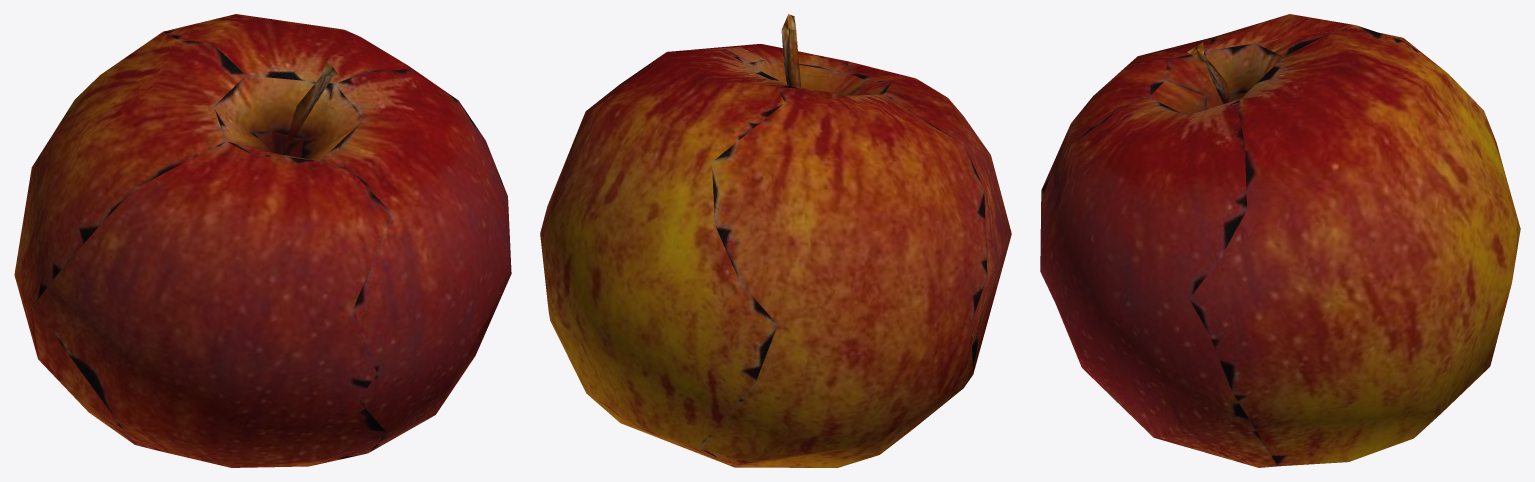
Rendered from apfel.glb.
3 renders of one model, left to right at view 1: azimuth 30°, elevation 25°; view 2: azimuth 150°, elevation 25°; view 3: azimuth 270°, elevation 25°, orthographic. The views are drawn at different scales.
Parts seen in each view (by area): view 1: food_apple_01; view 2: food_apple_01; view 3: food_apple_01.
Boxes of the visible parts, bbox=[...] form: food_apple_01: bbox=[14, 14, 511, 467]; food_apple_01: bbox=[540, 14, 1011, 467]; food_apple_01: bbox=[1040, 14, 1520, 467].
Size of the model in its own units: 0.0973 by 0.0848 by 0.0943.
Materials: 1 (1 with a texture image).
